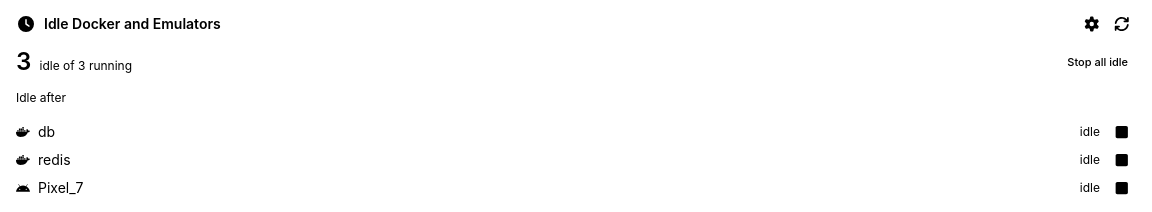
IdleResourcesCard stopping › stops one resource straight away and drops it from the list
Click the button named "Stop db" at (1122, 132), box [1108,118,1136,146]
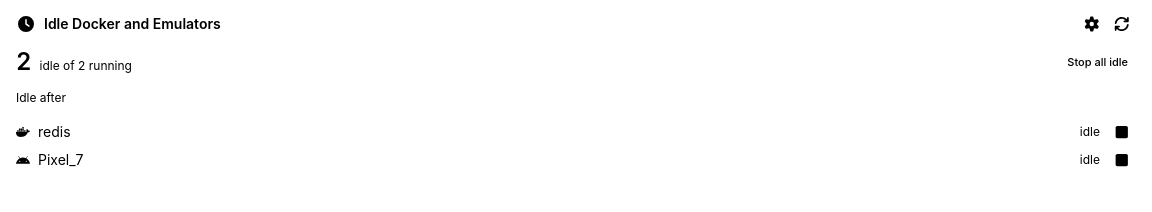
Now the text "db" is gone
